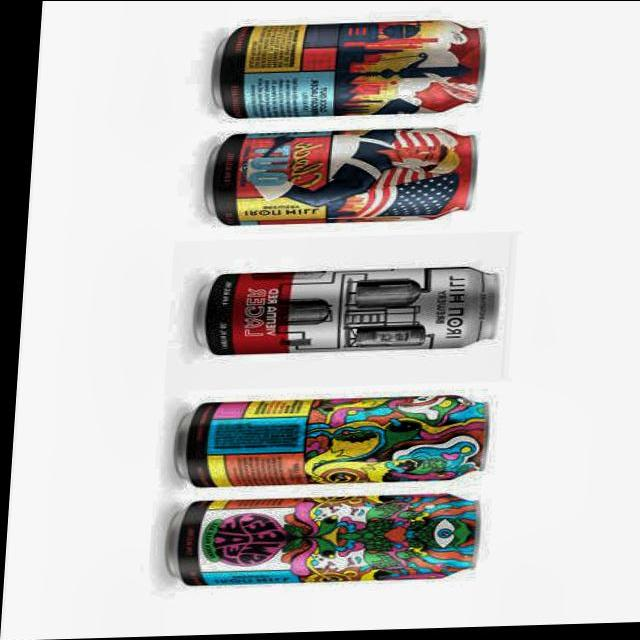Aluminum Can: (155, 491, 488, 599), (165, 390, 498, 491), (195, 15, 488, 124), (180, 264, 504, 360), (192, 124, 476, 233)
